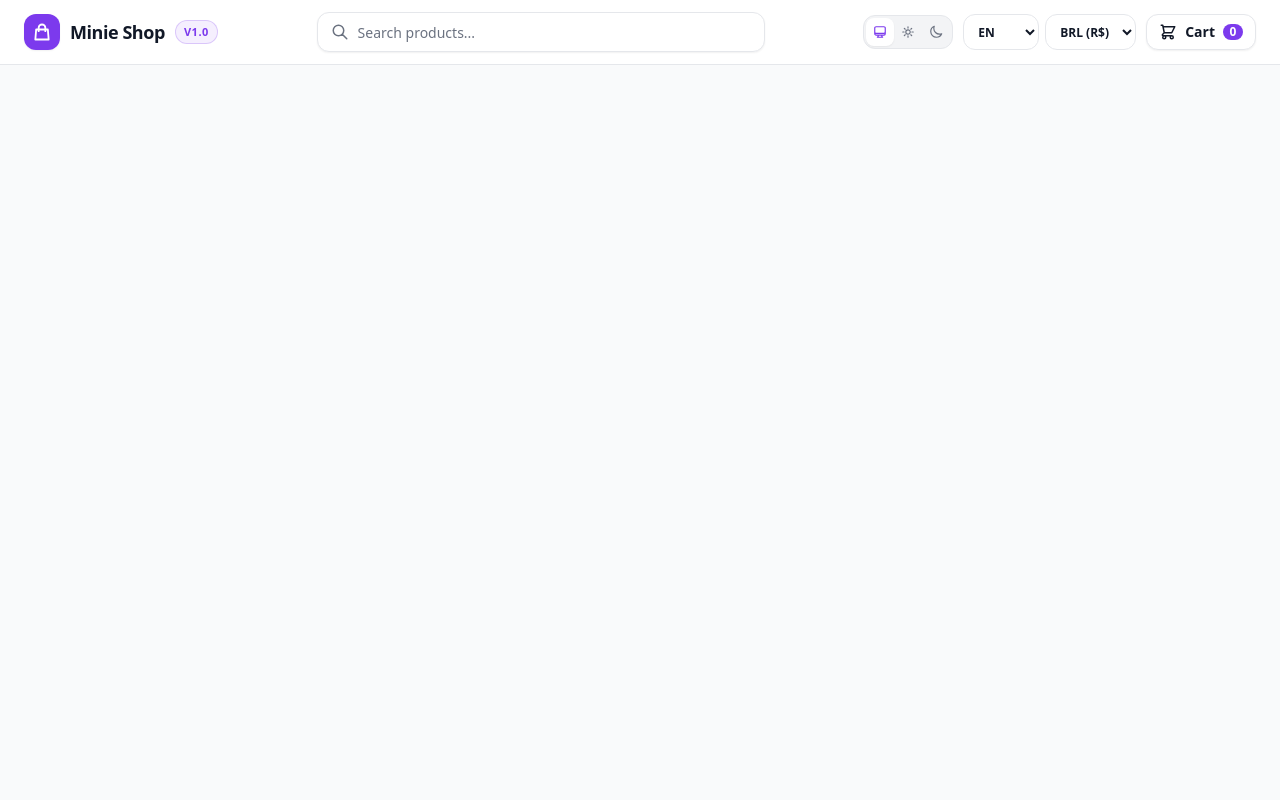
Test case: useTheme & Navbar System / Light / Dark toggle › renders accessible System / Light / Dark controls in Navbar and updates data-theme
Click the button named "Dark". click: (936, 32)
box: [922, 18, 950, 46]
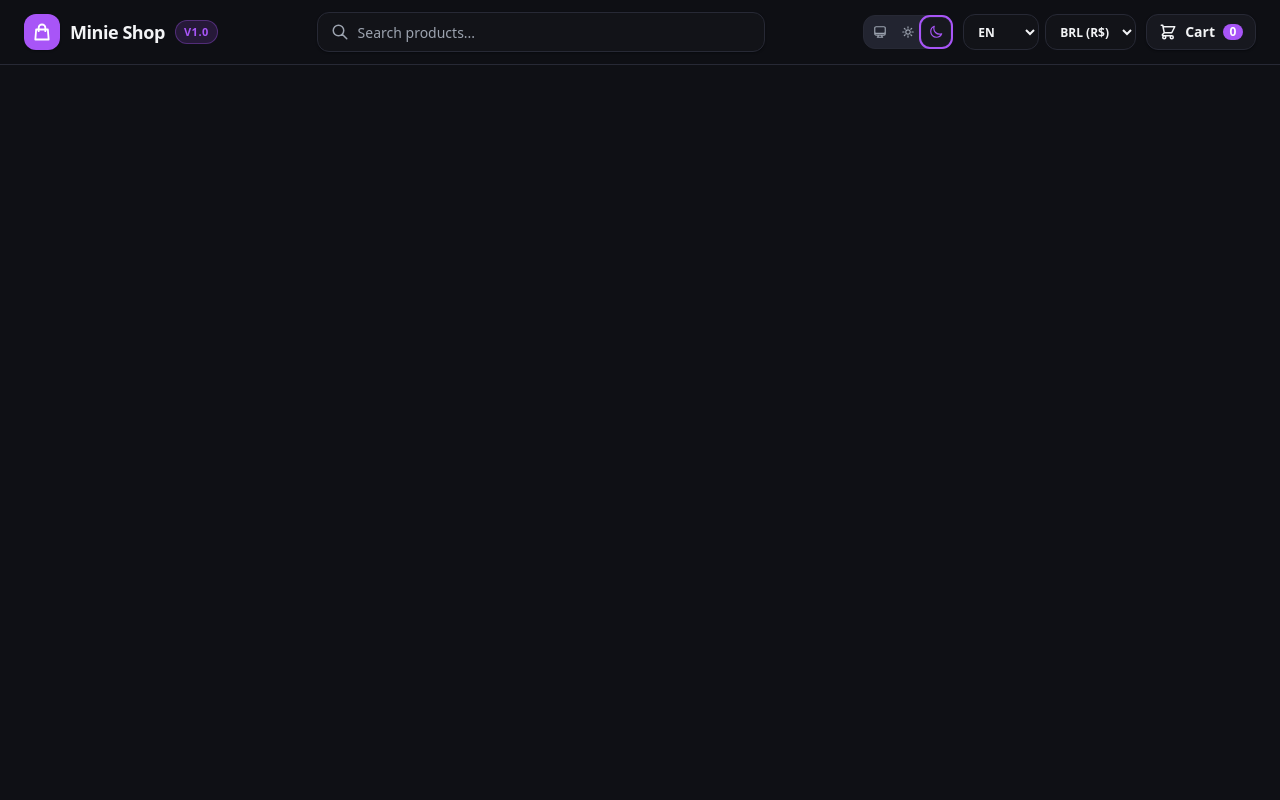
Result: the button named "Dark" is pressed at [922, 18, 950, 46]
Click the button named "Light". click: (908, 32)
box: [894, 18, 922, 46]
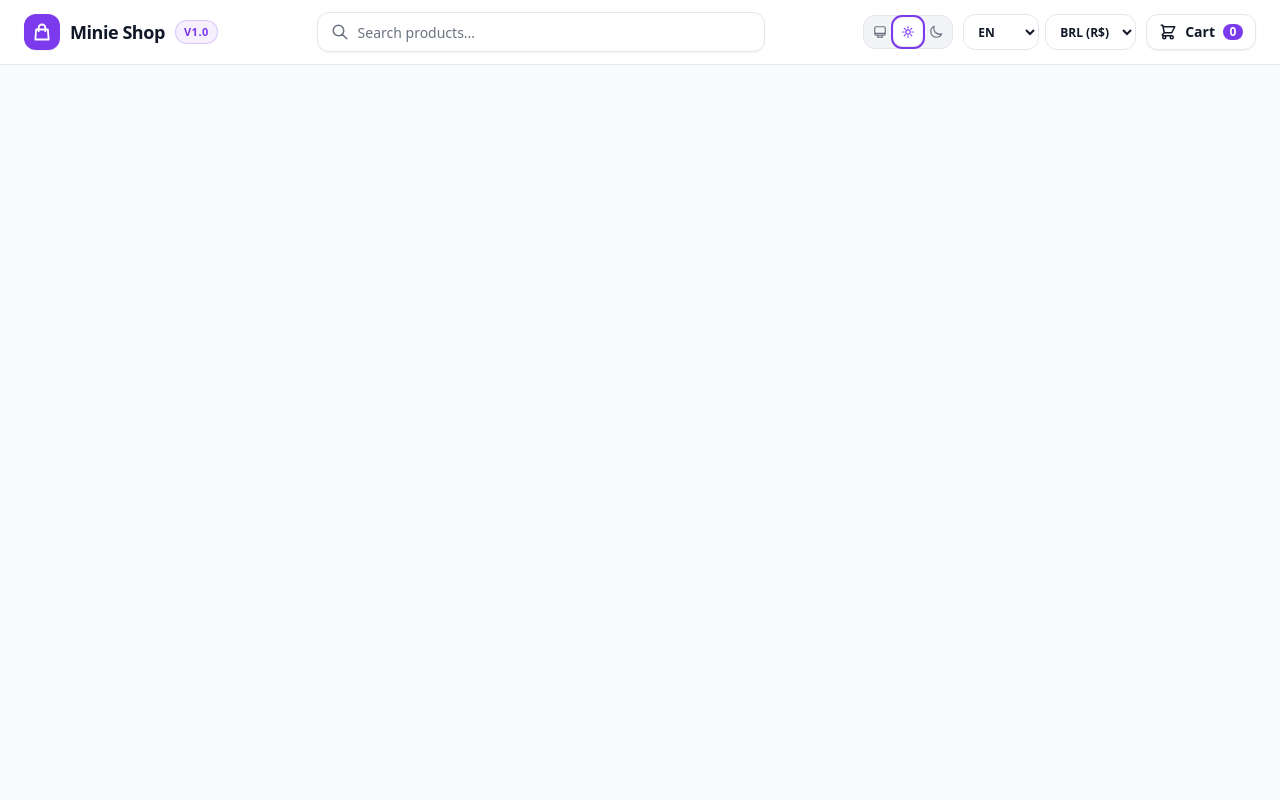
Result: the button named "Light" is pressed at [894, 18, 922, 46]
